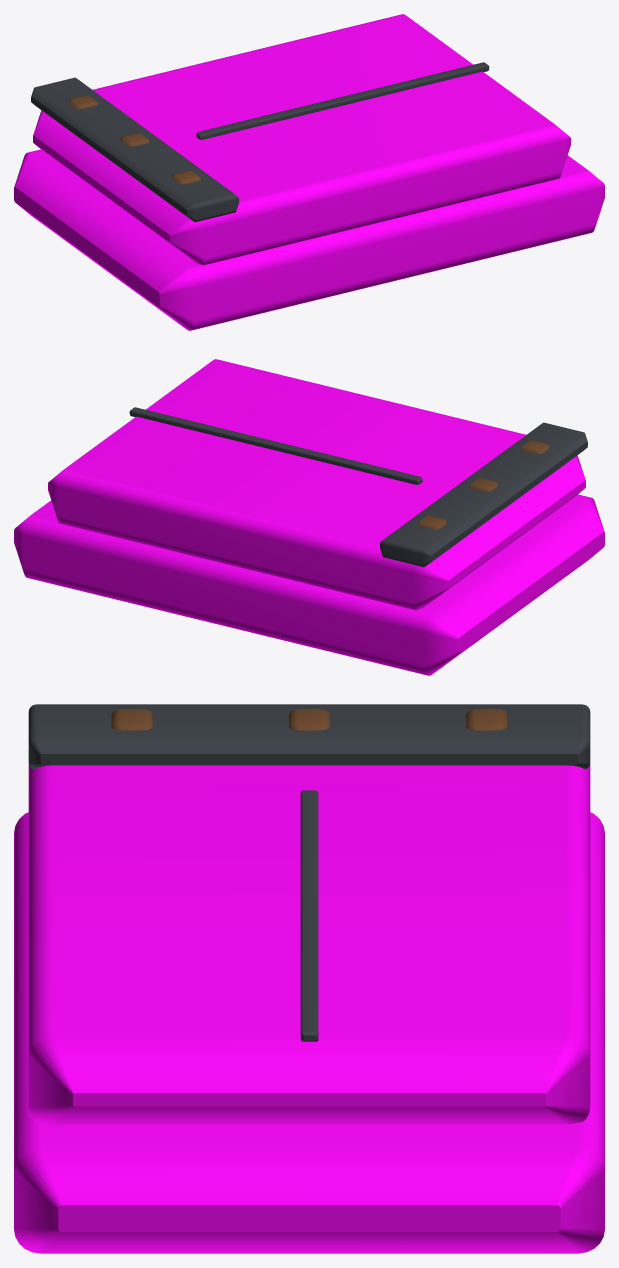
Rendered from objet_pantalon.glb.
3 views of the same model, one above another, from view 1: azimuth 30°, elevation 25°; view 2: azimuth 150°, elevation 25°; view 3: azimuth 270°, elevation 25° (orthographic). The views are drawn at different scales.
Parts seen in each view (by area): view 1: pantalon_teinte.002, pantalon_teinte_sombre.002, pantalon_sac_cuir.002; view 2: pantalon_teinte.002, pantalon_teinte_sombre.002, pantalon_sac_cuir.002; view 3: pantalon_teinte.002, pantalon_teinte_sombre.002, pantalon_sac_cuir.002.
Part boxes in pixels (<box>): pantalon_teinte.002: <box>14,14,604,330</box>; pantalon_teinte_sombre.002: <box>31,62,489,222</box>; pantalon_sac_cuir.002: <box>69,95,200,184</box>; pantalon_teinte.002: <box>14,359,604,675</box>; pantalon_teinte_sombre.002: <box>129,407,587,567</box>; pantalon_sac_cuir.002: <box>418,440,549,529</box>; pantalon_teinte.002: <box>14,763,604,1253</box>; pantalon_teinte_sombre.002: <box>28,704,590,1041</box>; pantalon_sac_cuir.002: <box>111,709,507,730</box>.
Bounding box in the file's own units: 0.3 × 0.083 × 0.2.
